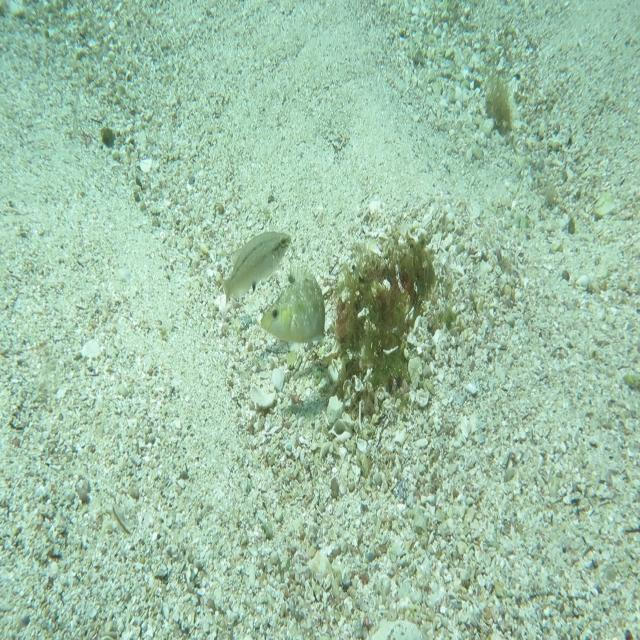DAN_CIRC: (259, 260, 327, 345)
female: (222, 228, 292, 306)
nest: (318, 218, 456, 434)
